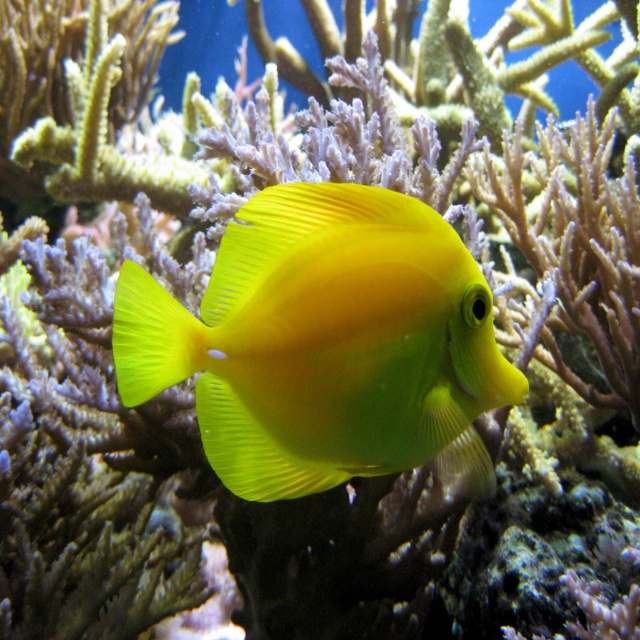Fish: (112, 182, 529, 503)
